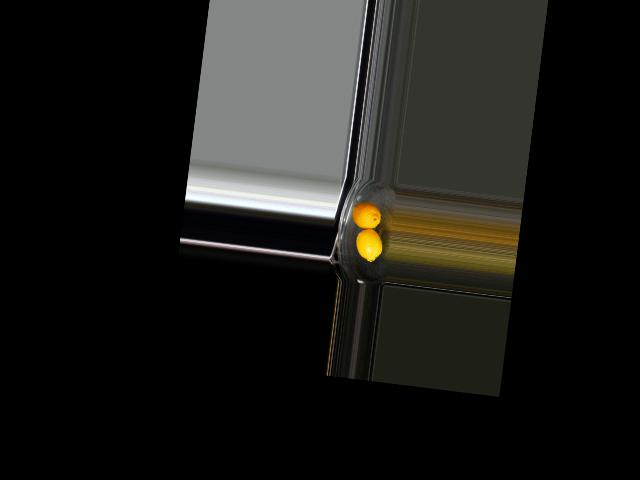lemon: (352, 224, 384, 265)
